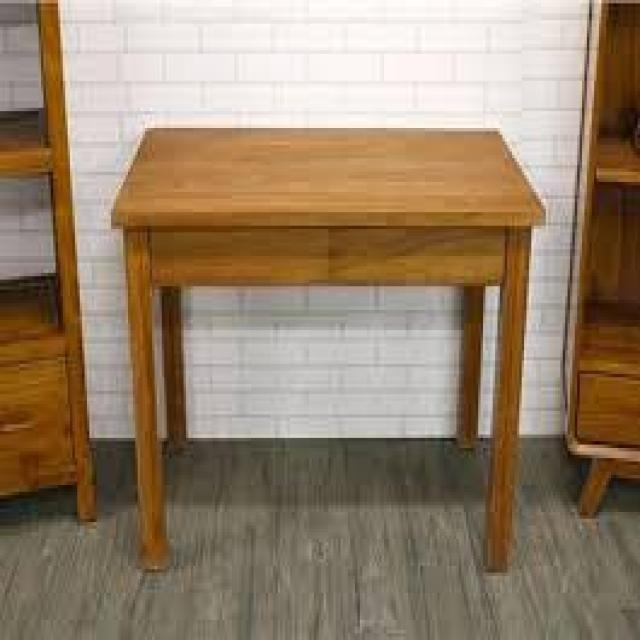table: (110, 69, 535, 578)
